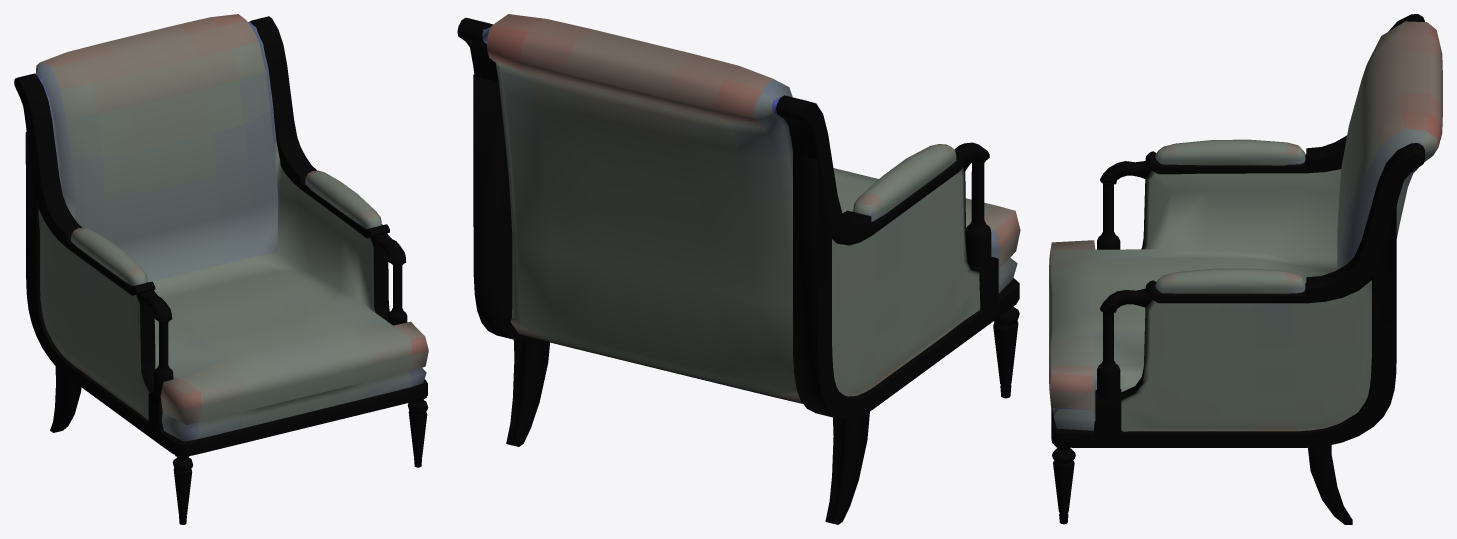
3 views of the same model, side by side, from view 1: azimuth 30°, elevation 25°; view 2: azimuth 150°, elevation 25°; view 3: azimuth 270°, elevation 25° (orthographic). The views are drawn at different scales.
Visible parts, largest first — view 1: Mesh; view 2: Mesh; view 3: Mesh.
Part boxes in pixels (left/top/right/bottom): Mesh: left=14, top=14, right=428, bottom=524; Mesh: left=457, top=14, right=1020, bottom=524; Mesh: left=1049, top=14, right=1442, bottom=524.
Size of the model in its own units: 65.86 by 84.42 by 78.21.
